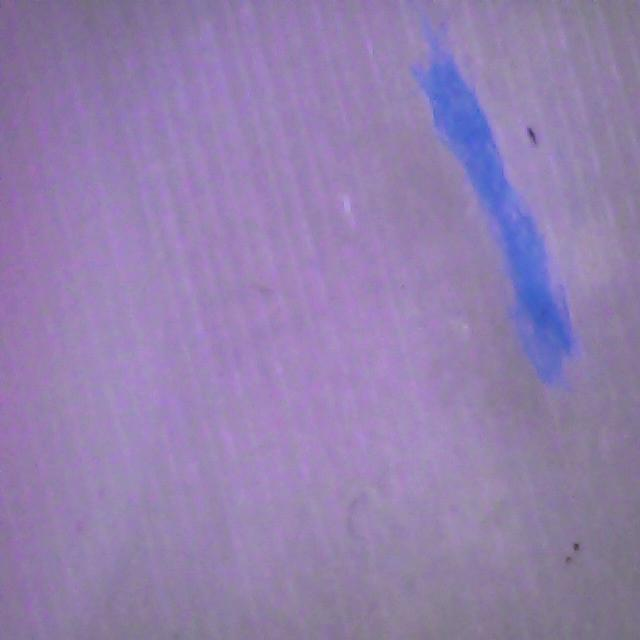fibers: (394, 7, 598, 390)
